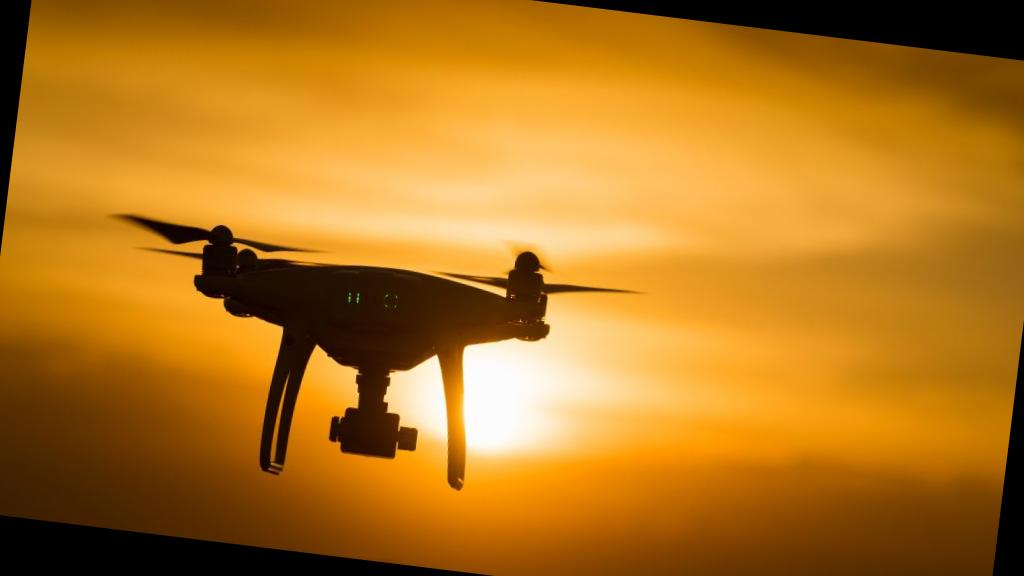drone: (90, 199, 676, 409)
